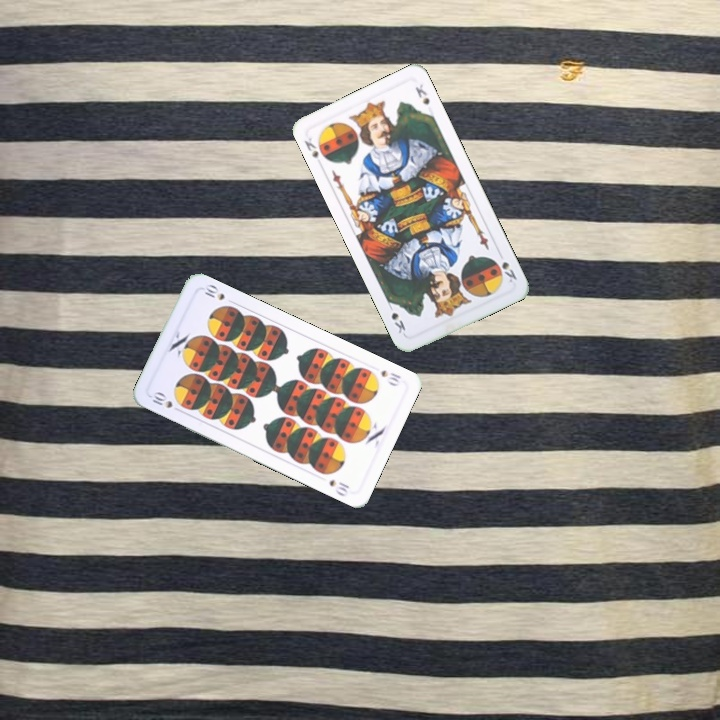S10: (146, 388, 184, 415), (377, 366, 404, 389)
SK: (498, 257, 519, 285), (300, 133, 321, 161)
